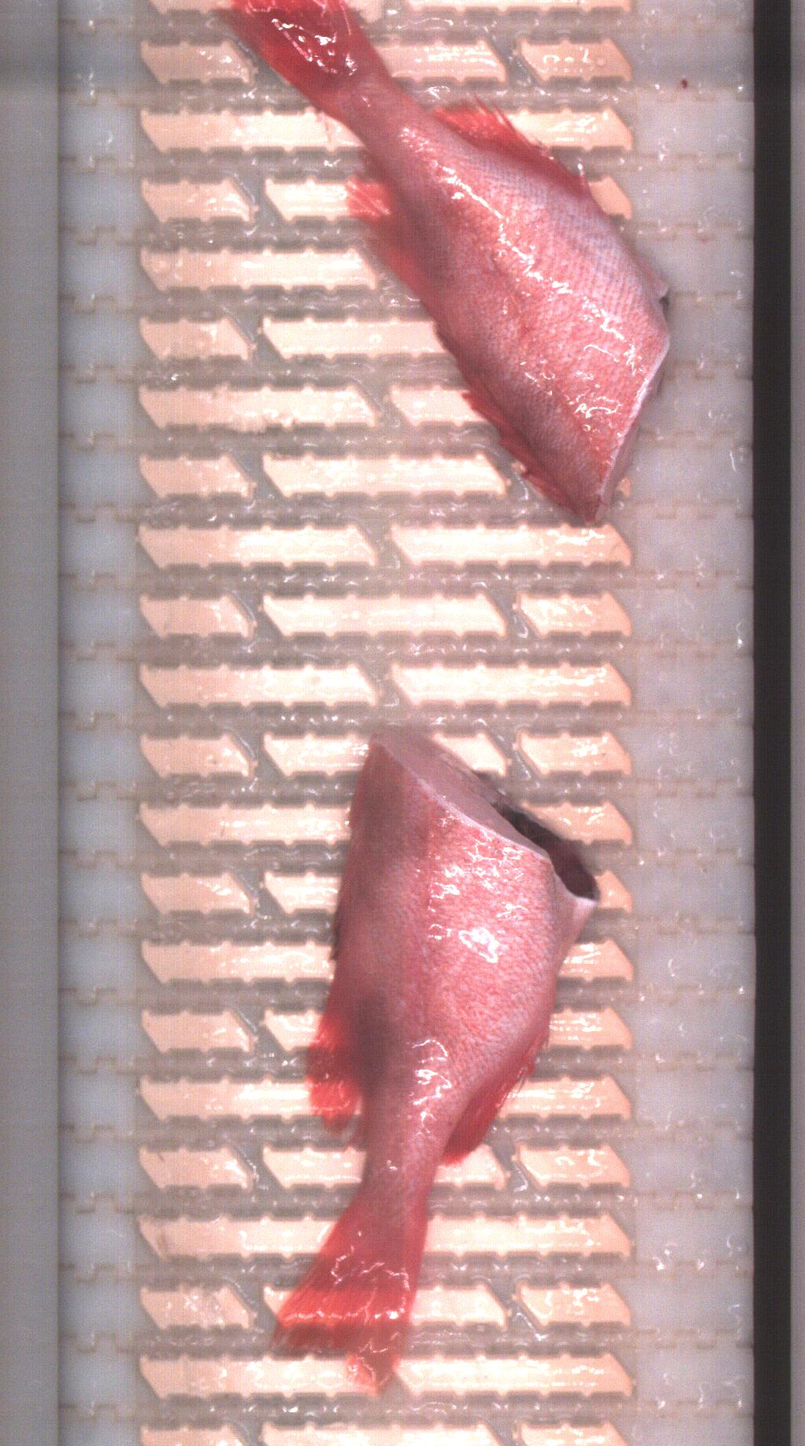Fish: (217, 0, 669, 522), (272, 729, 598, 1395)
